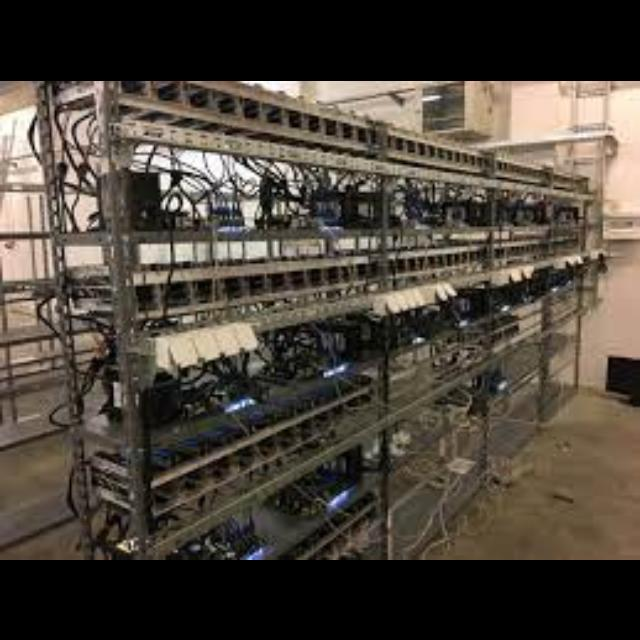Server: (54, 84, 372, 558)
